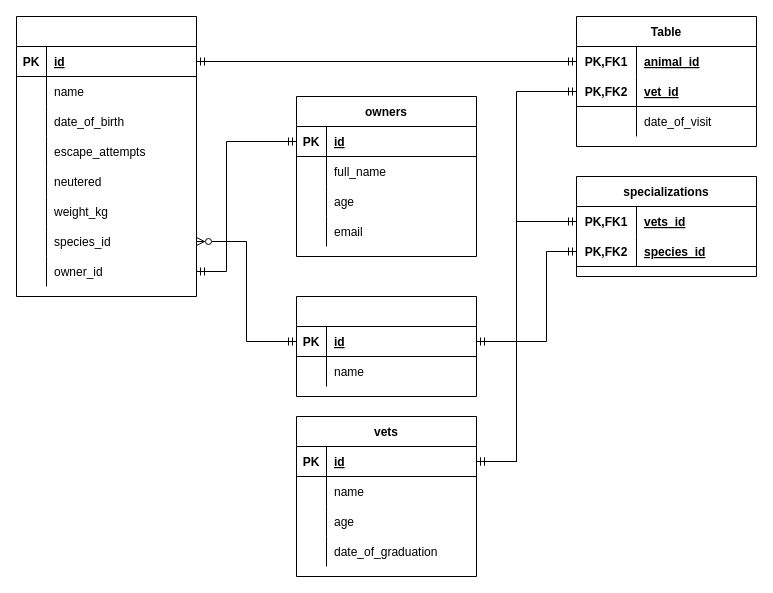
Image size: 773x593. Some labels were removed from this diagram. The box of each missing label's shape, as (x1, y1, x2, y2) in pixels:
animals: (16, 16, 196, 296)
species: (296, 296, 476, 396)
